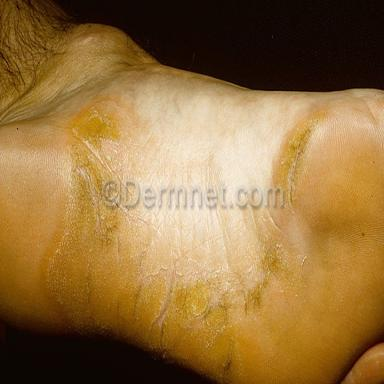eczema: (45, 109, 329, 382)
